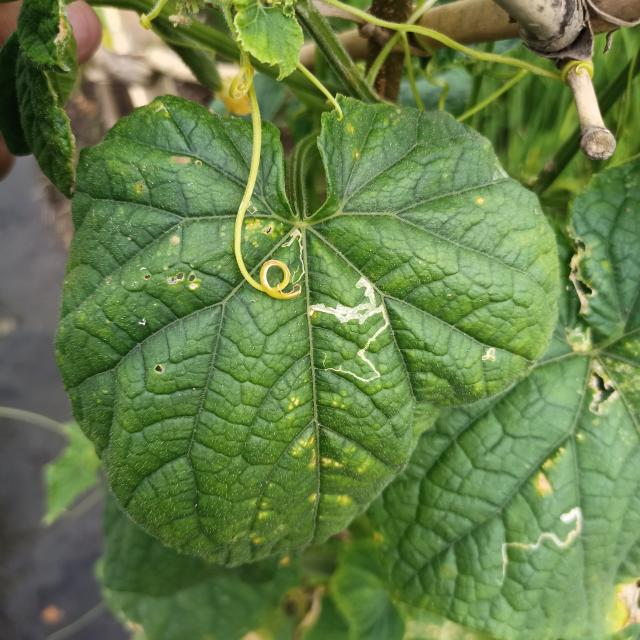disease_cucumber: (286, 396, 342, 474), (243, 218, 276, 253)
